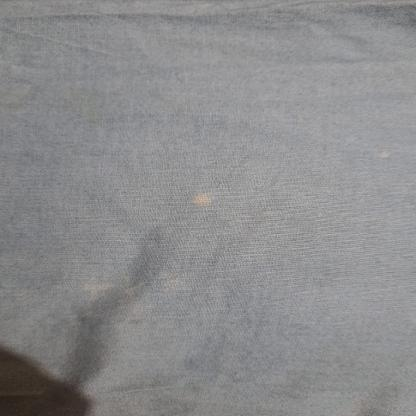spot: (50, 264, 207, 299), (180, 182, 222, 210), (362, 149, 396, 163)
